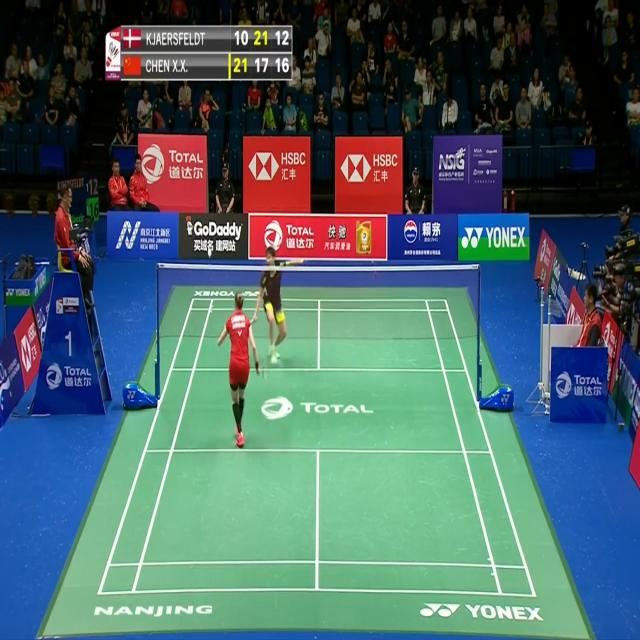Player1: (214, 288, 270, 454)
Player2: (245, 240, 311, 368)
